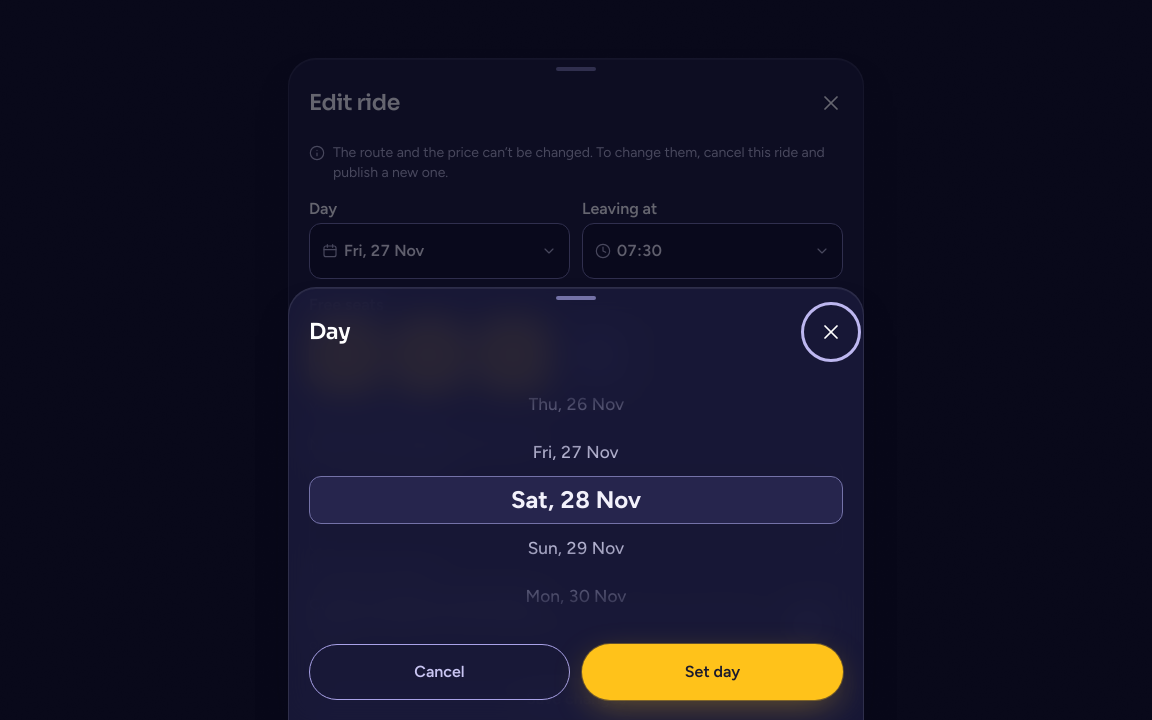
Test: EditRideSheet › SEATS_BELOW_BOOKED -> seats: shows the message inline and focuses the field
Earlier steps of the test are not shown.
(page scrolled)
Click the button "Set day" at (712, 672), box [582,644,843,700]
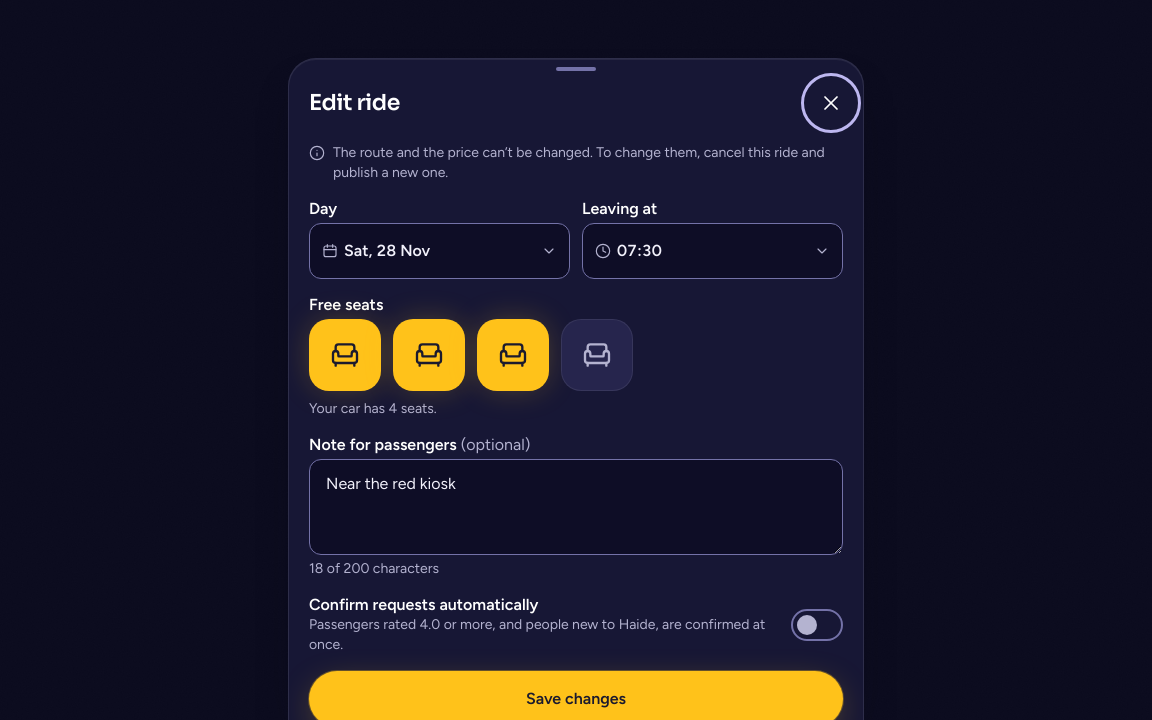
Click the radio button named "2 seats" at (429, 355), box [393,319,465,391]
(page scrolled)
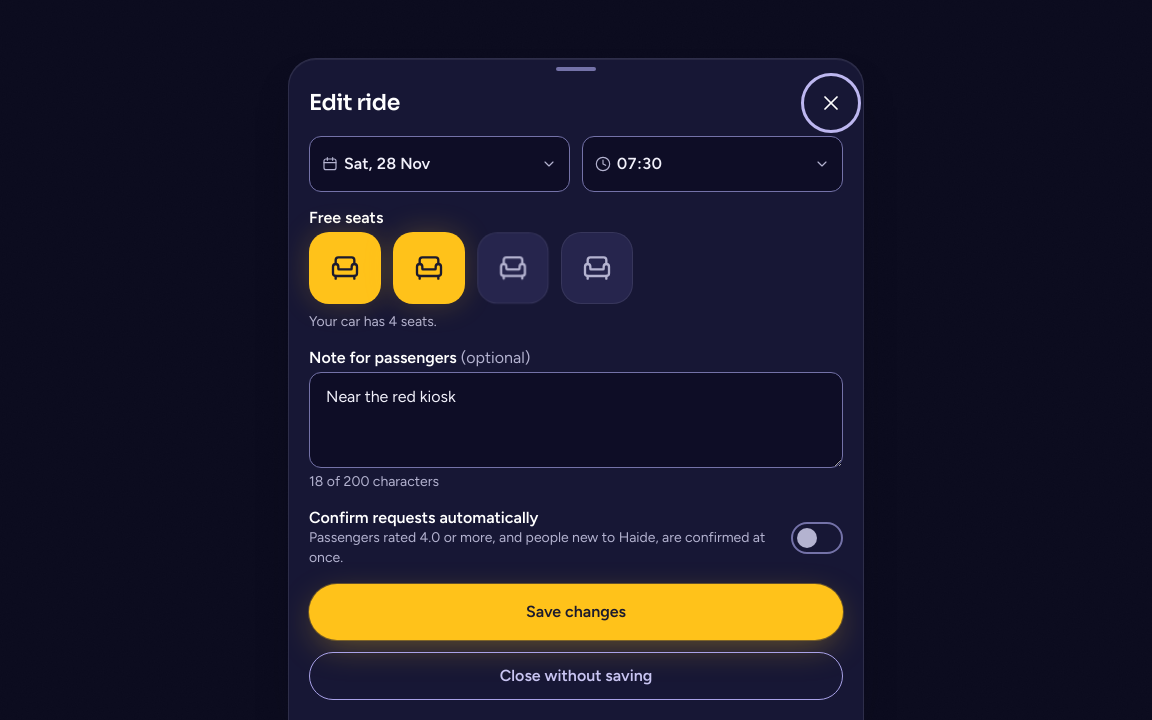
Click the button "Save changes" at (576, 612), box [309,584,843,640]
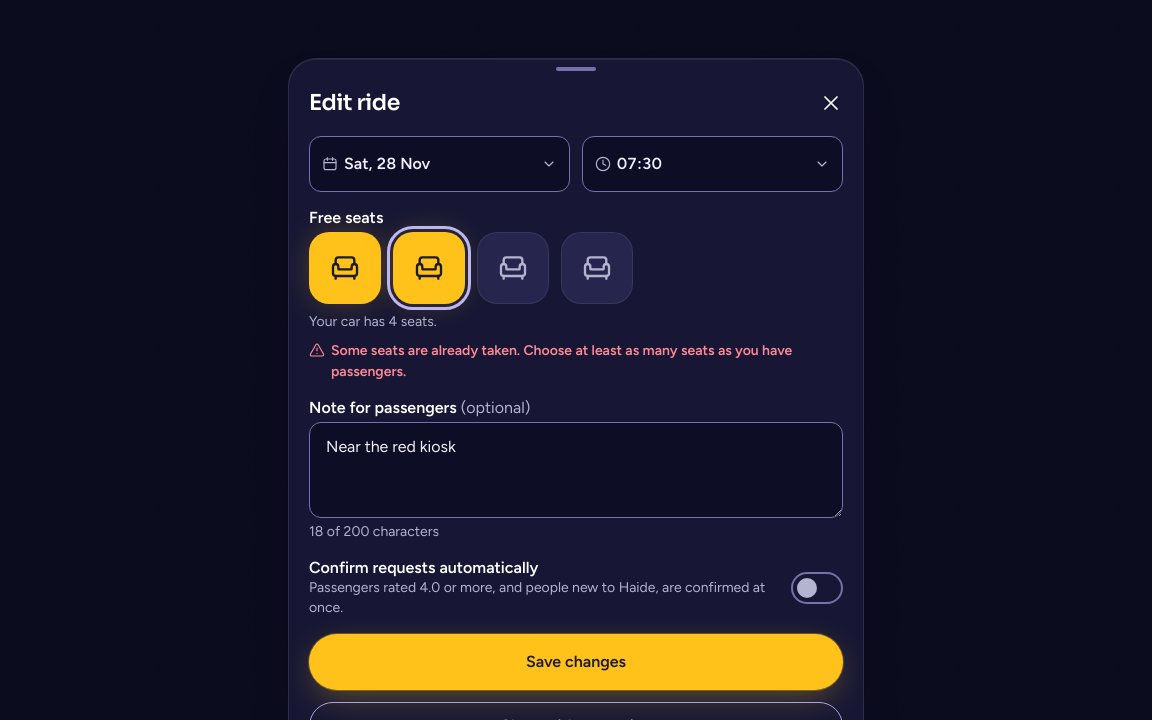
Now the message is shown, box [309,340,843,382]
